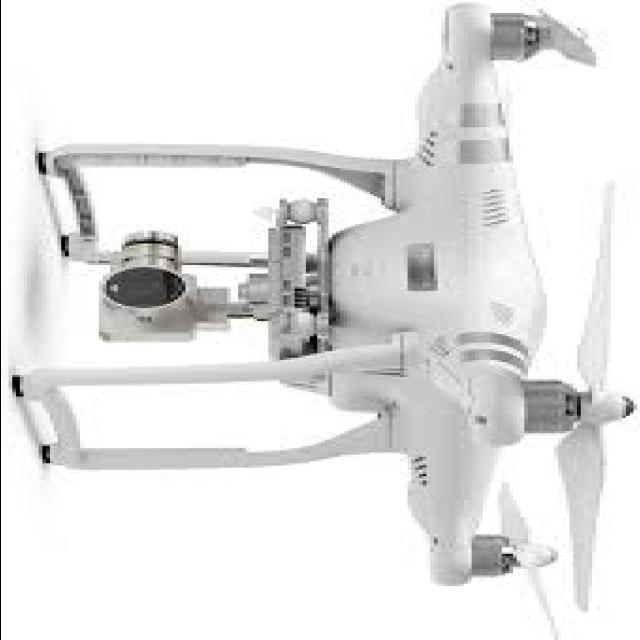drone: (24, 0, 604, 640)
